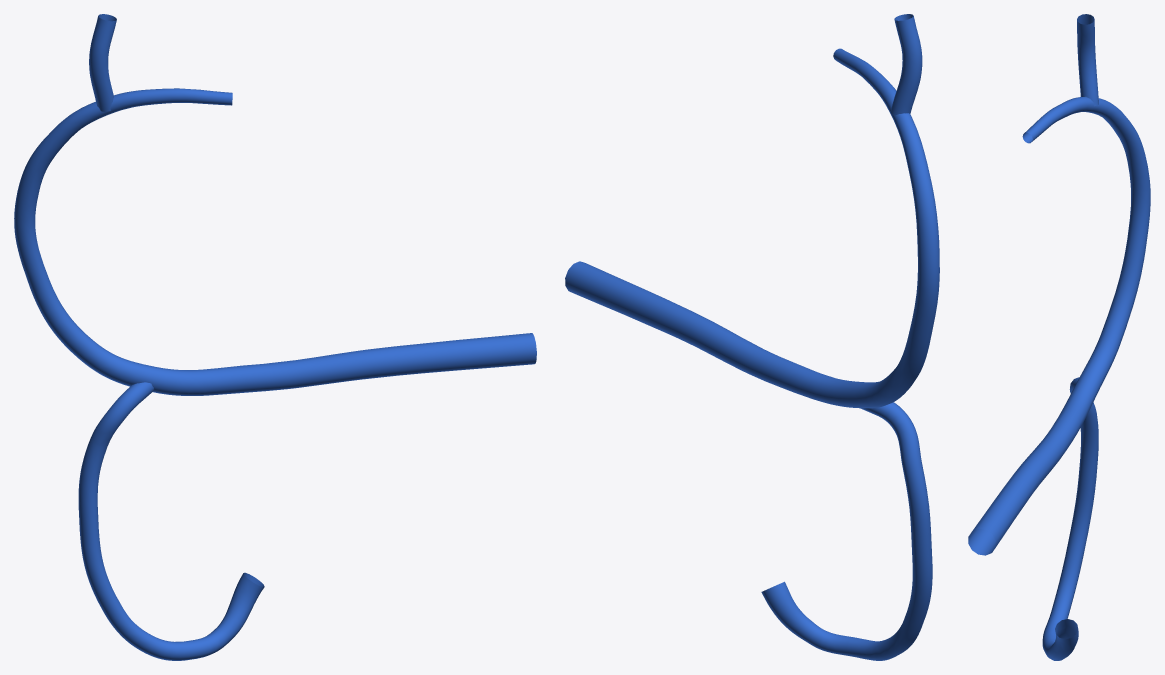
File: circulatorio-right-colic-vein.glb
3 views of the same model, side by side, from view 1: azimuth 30°, elevation 25°; view 2: azimuth 150°, elevation 25°; view 3: azimuth 270°, elevation 25° (orthographic). The views are drawn at different scales.
Parts seen in each view (by area): view 1: Right colic vein; view 2: Right colic vein; view 3: Right colic vein.
Boxes of the visible parts, x1,y1,x2,y2 form: Right colic vein: [14, 14, 536, 660]; Right colic vein: [565, 14, 939, 660]; Right colic vein: [968, 14, 1150, 660].
Bounding box in the file's own units: 0.0474 × 0.0671 × 0.0184.
